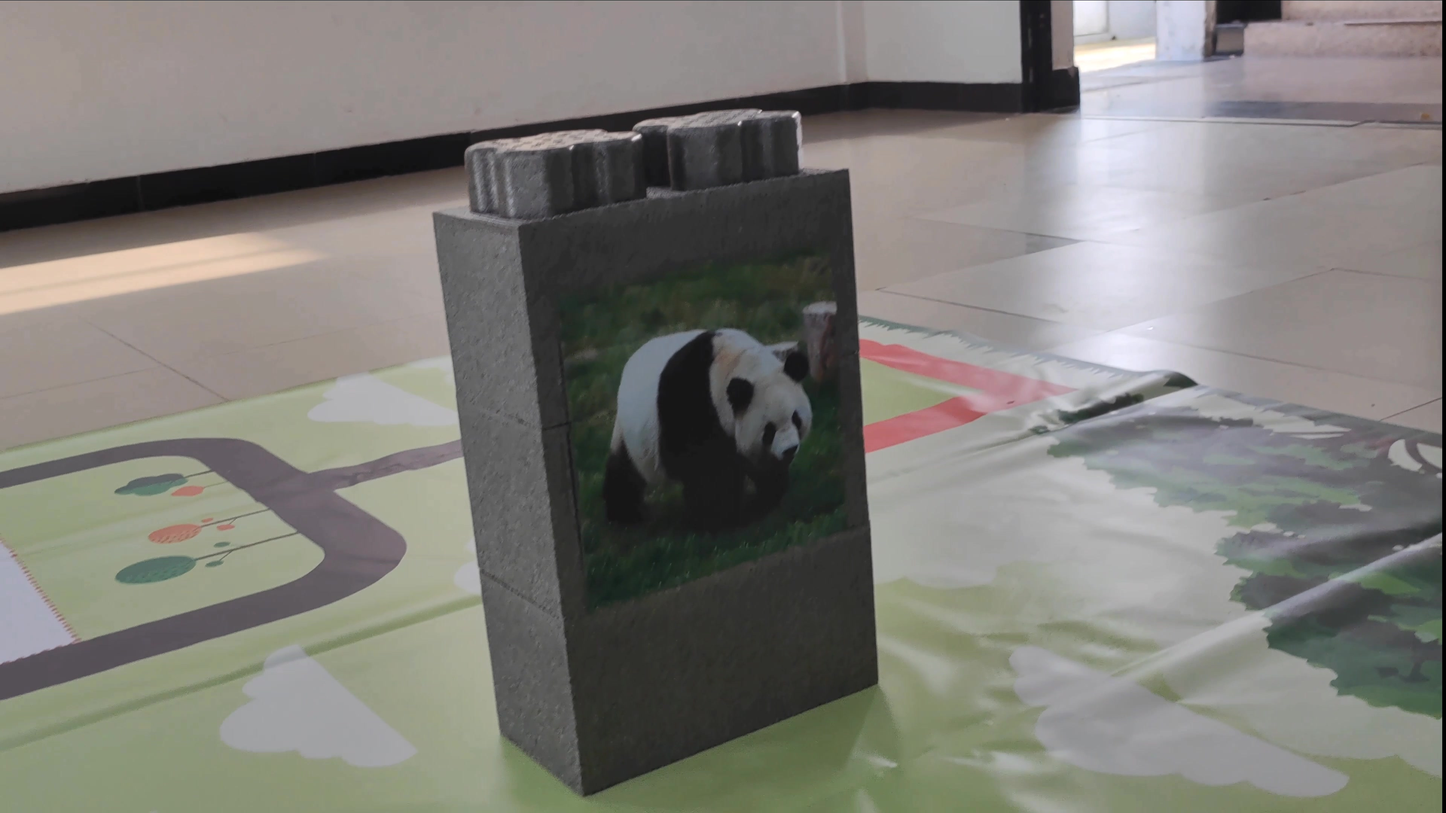panda: (558, 308, 837, 537)
